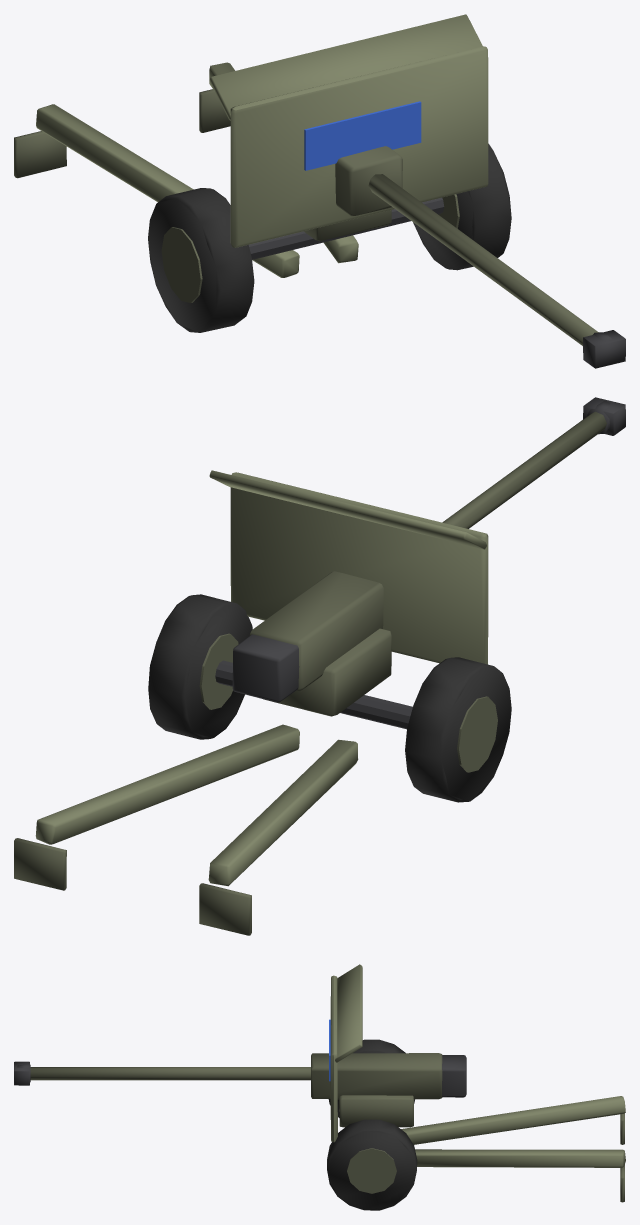
File: at_gun_lod1.glb
3 views of the same model, one above another, from view 1: azimuth 30°, elevation 25°; view 2: azimuth 150°, elevation 25°; view 3: azimuth 270°, elevation 25° (orthographic). The views are drawn at different scales.
Parts seen in each view (by area): view 1: turret, hull; view 2: hull, turret; view 3: hull, turret.
Part boxes in pixels (x1,y1,x2,y2): turret: [209, 14, 625, 368]; hull: [14, 62, 511, 332]; hull: [14, 594, 511, 935]; turret: [209, 397, 625, 702]; hull: [327, 1039, 625, 1210]; turret: [14, 964, 466, 1142].
Size of the model in its own units: 2.31 by 1.89 by 6.47.
